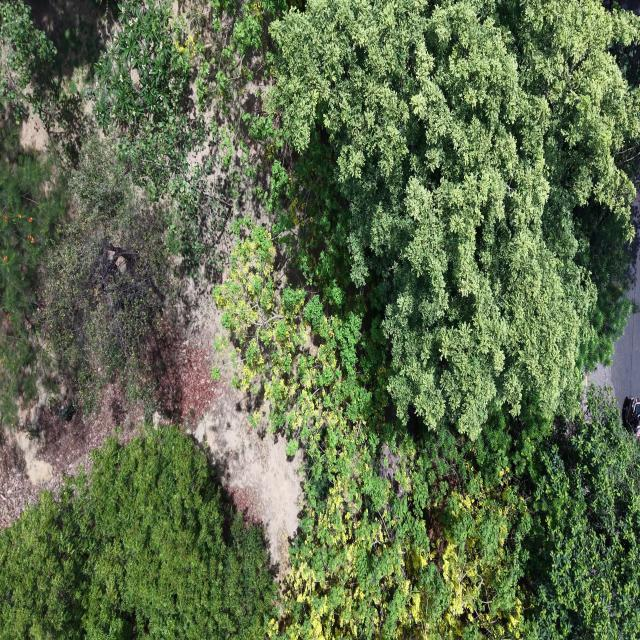DRY_AREA: (154, 278, 302, 572), (165, 280, 302, 569), (167, 340, 302, 567), (194, 358, 303, 575), (194, 353, 302, 567), (0, 384, 143, 527), (0, 385, 142, 527), (195, 388, 302, 565), (585, 313, 639, 415), (585, 313, 639, 414), (591, 313, 639, 410)
VEGETATION_TREE: (0, 0, 639, 639), (219, 1, 639, 637), (95, 2, 638, 436), (220, 229, 639, 639), (270, 0, 639, 437), (0, 0, 170, 426), (0, 427, 275, 639), (94, 0, 288, 274), (0, 144, 171, 425), (85, 427, 274, 639), (39, 138, 171, 418), (523, 396, 639, 639), (0, 0, 64, 425), (95, 0, 206, 198), (0, 0, 117, 164), (0, 151, 63, 425), (0, 491, 91, 639), (0, 0, 57, 122)
